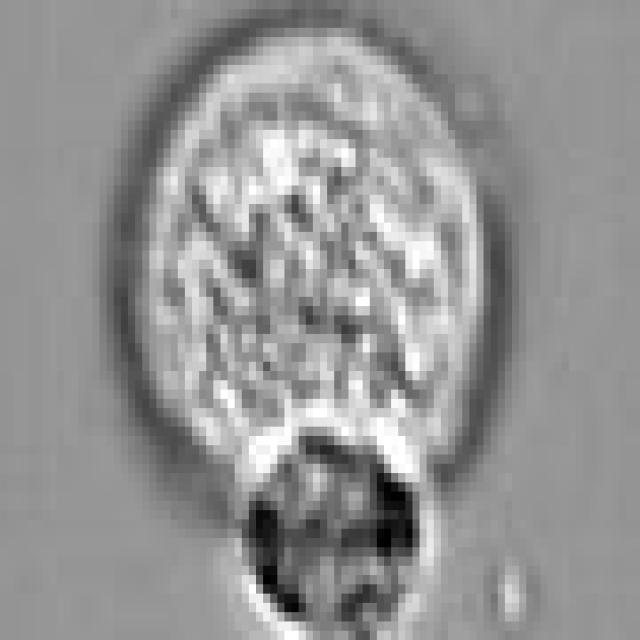Cancer Cell: (128, 19, 512, 510)
WBC: (241, 426, 419, 640)
